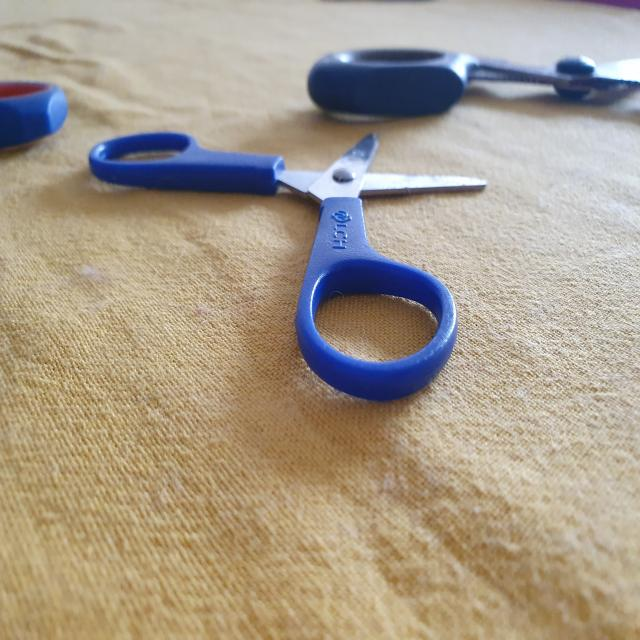scissors: (89, 128, 486, 404), (308, 39, 640, 117), (0, 74, 72, 150)
